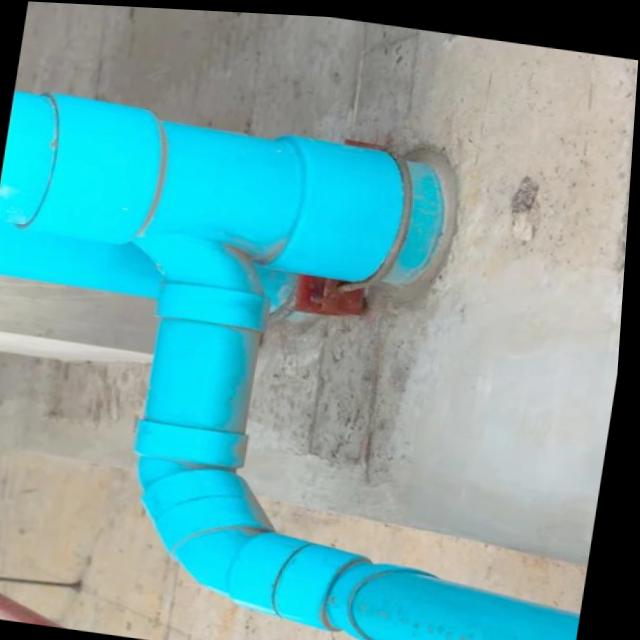leak: (2, 93, 422, 417), (136, 414, 238, 476)
